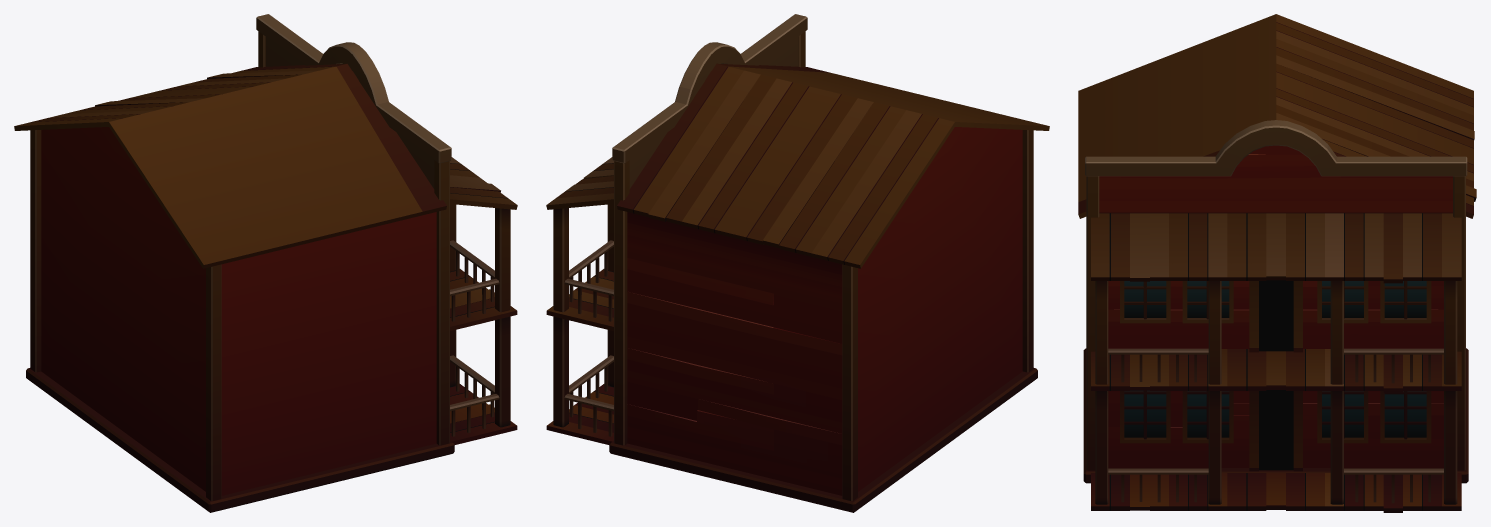
File: building_1.fbx
3 views of the same model, side by side, from view 1: azimuth 30°, elevation 25°; view 2: azimuth 150°, elevation 25°; view 3: azimuth 270°, elevation 25° (orthographic). The views are drawn at different scales.
Parts seen in each view (by area): view 1: building_1; view 2: building_1; view 3: building_1.
Part boxes in pixels (x1,y1,x2,y2): building_1: (14, 14, 517, 512); building_1: (546, 14, 1049, 512); building_1: (1078, 14, 1476, 512).
Size of the model in its own units: 10.41 by 10.56 by 10.69.
